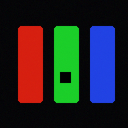1 square: (60, 72, 70, 82)
